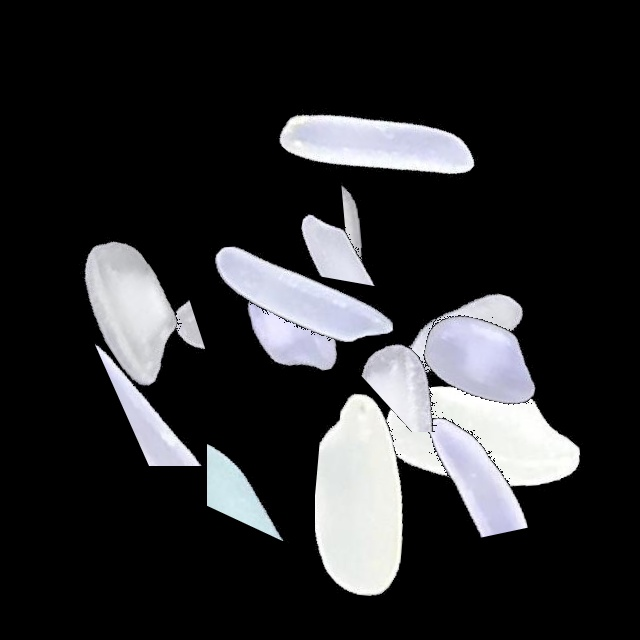Broken: (315, 374, 482, 624), (396, 332, 554, 582), (68, 329, 318, 466), (317, 295, 567, 432), (288, 92, 415, 342), (207, 343, 324, 593), (270, 174, 520, 275), (32, 297, 282, 382)
Full: (250, 22, 500, 272), (355, 310, 605, 560), (164, 197, 414, 447), (338, 208, 588, 458), (6, 186, 256, 436), (180, 167, 430, 417), (358, 235, 608, 485)
